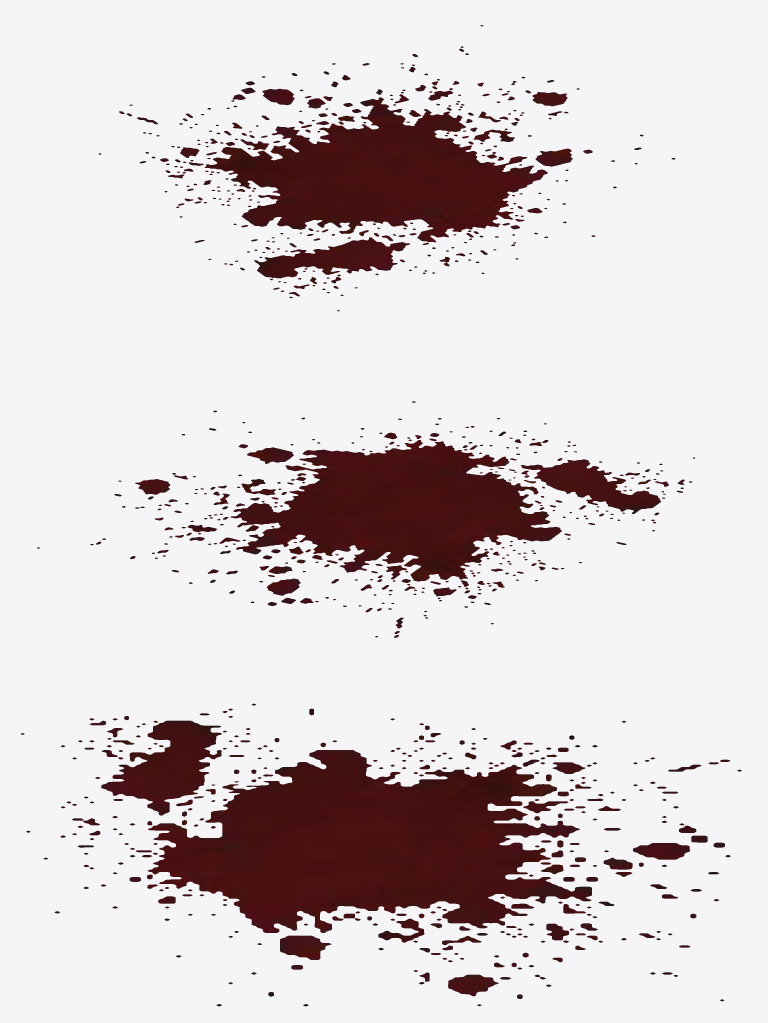
File: KM_BLOOD_01.glb
The picture shows the model from 3 angles, top to bottom: view 1: azimuth 30°, elevation 25°; view 2: azimuth 150°, elevation 25°; view 3: azimuth 270°, elevation 25°; orthographic projection. The views are drawn at different scales.
Visible parts, largest first — view 1: Mesh; view 2: Mesh; view 3: Mesh.
Boxes of the visible parts, x1=… form: Mesh: x1=98, y1=25, x2=675, y2=311; Mesh: x1=37, y1=401, x2=694, y2=637; Mesh: x1=21, y1=703, x2=741, y2=1006.
Bounding box in the file's own units: 1.2 × 0.0168 × 1.2.
Materials: 1 (1 with a texture image).
